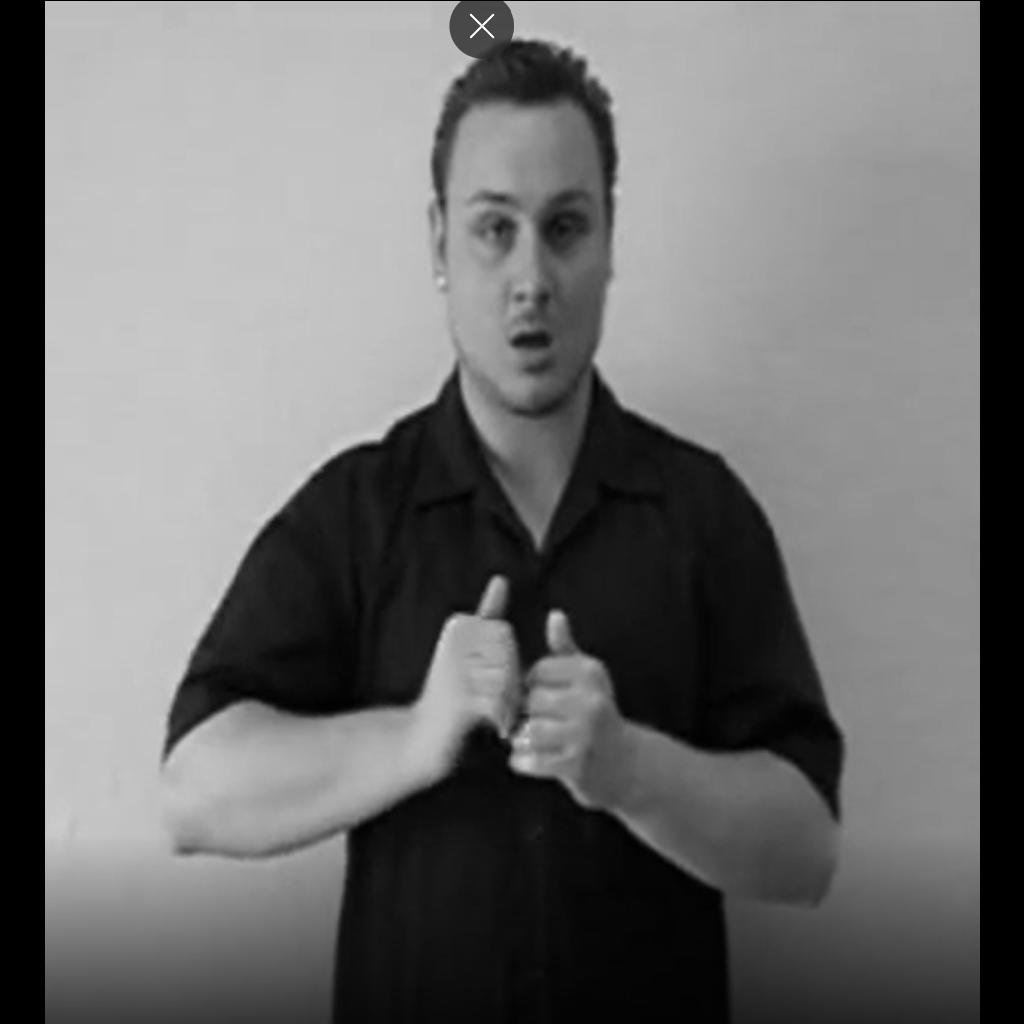how: (418, 574, 618, 810)
